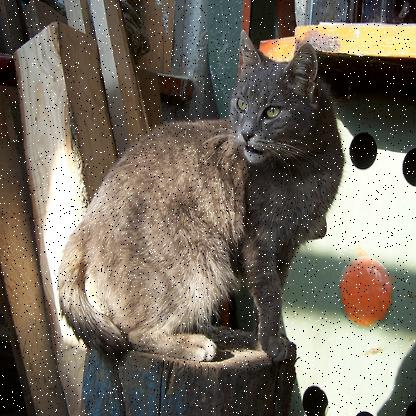cat: (40, 16, 341, 367)
